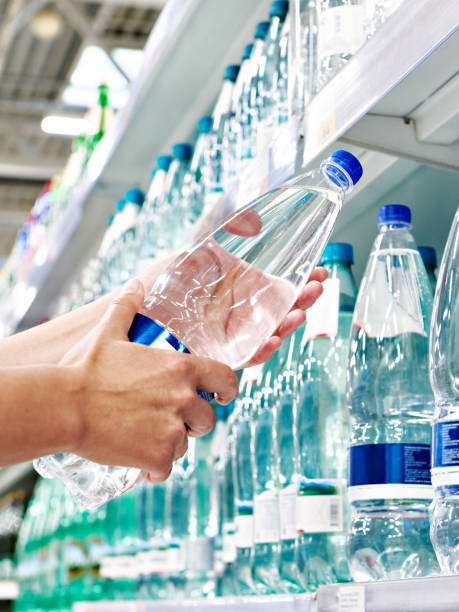bottle: (71, 134, 362, 488), (363, 182, 455, 583)
